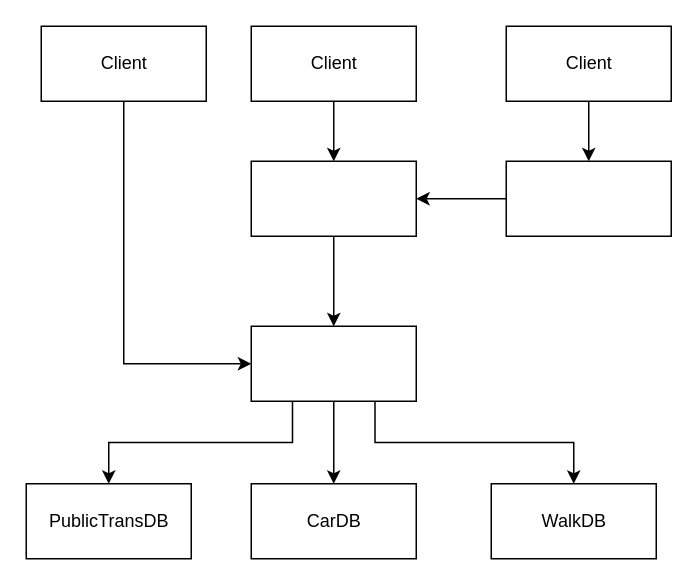
Some shapes in this 698 by 585 pixel diagram are drawn without their labels. The centre of each missing label's shape, as x and y in pixels:
Mapple API: the point at 333,363
Mapple frontend: the point at 588,198
Service layer: the point at 333,198
